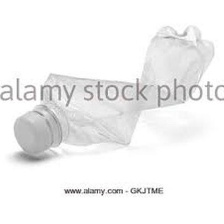bottle: (7, 17, 216, 159)
